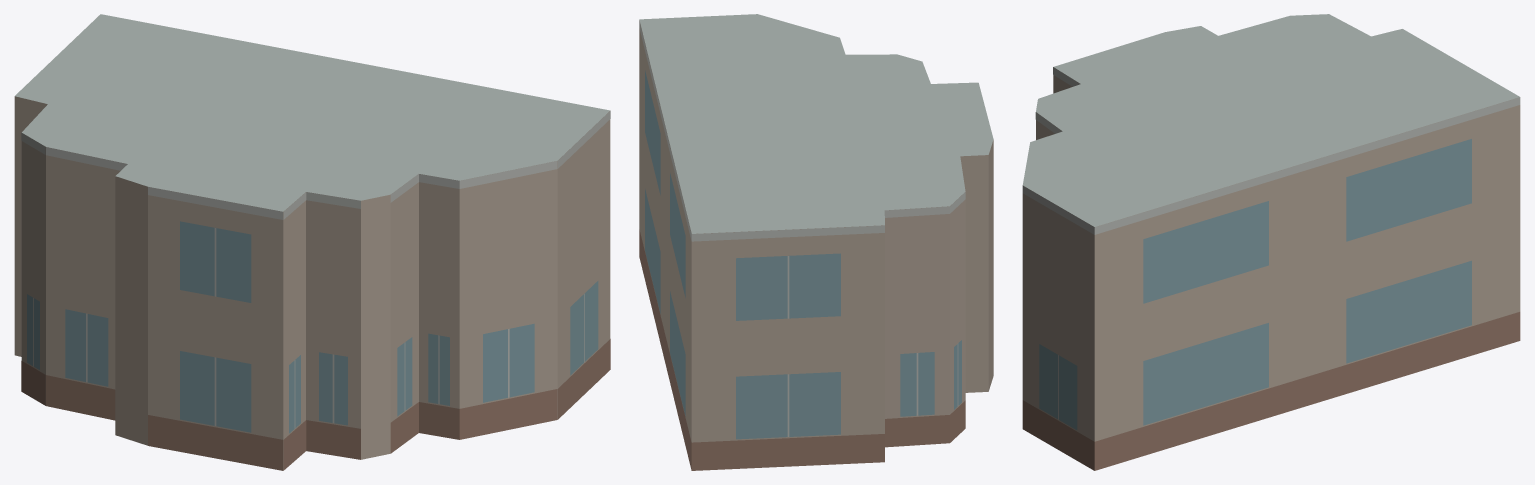
The model's file is survey-upis-32609809.glb.
The picture shows the model from 3 angles, left to right: view 1: azimuth 30°, elevation 25°; view 2: azimuth 150°, elevation 25°; view 3: azimuth 270°, elevation 25°; orthographic projection. The views are drawn at different scales.
Visible parts, largest first — view 1: survey-upis-32609809.tmp; view 2: survey-upis-32609809.tmp; view 3: survey-upis-32609809.tmp.
Boxes of the visible parts, x1,y1,x2,y2 form: survey-upis-32609809.tmp: (14,14,610,470); survey-upis-32609809.tmp: (639,14,993,470); survey-upis-32609809.tmp: (1022,14,1520,470).
Bounding box in the file's own units: 14.26 × 7.6 × 14.07.
